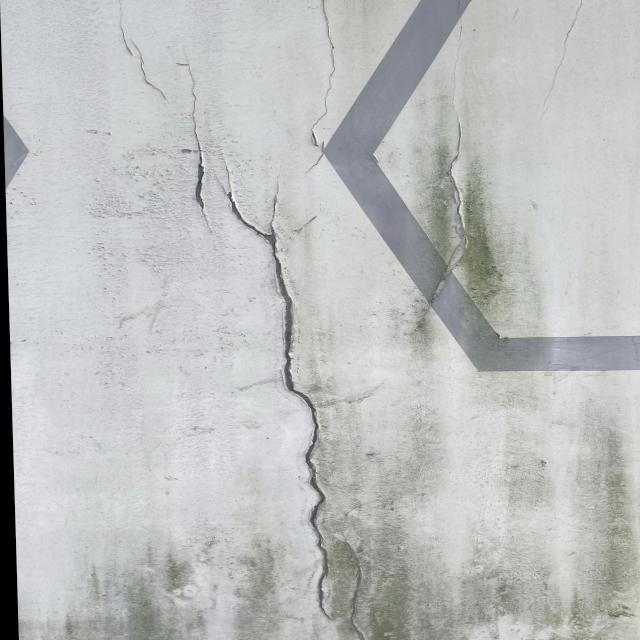crack: (107, 8, 383, 634), (299, 0, 354, 166), (524, 2, 595, 121), (441, 0, 472, 238)
damp: (33, 548, 281, 630)
mildew: (457, 166, 507, 324)
